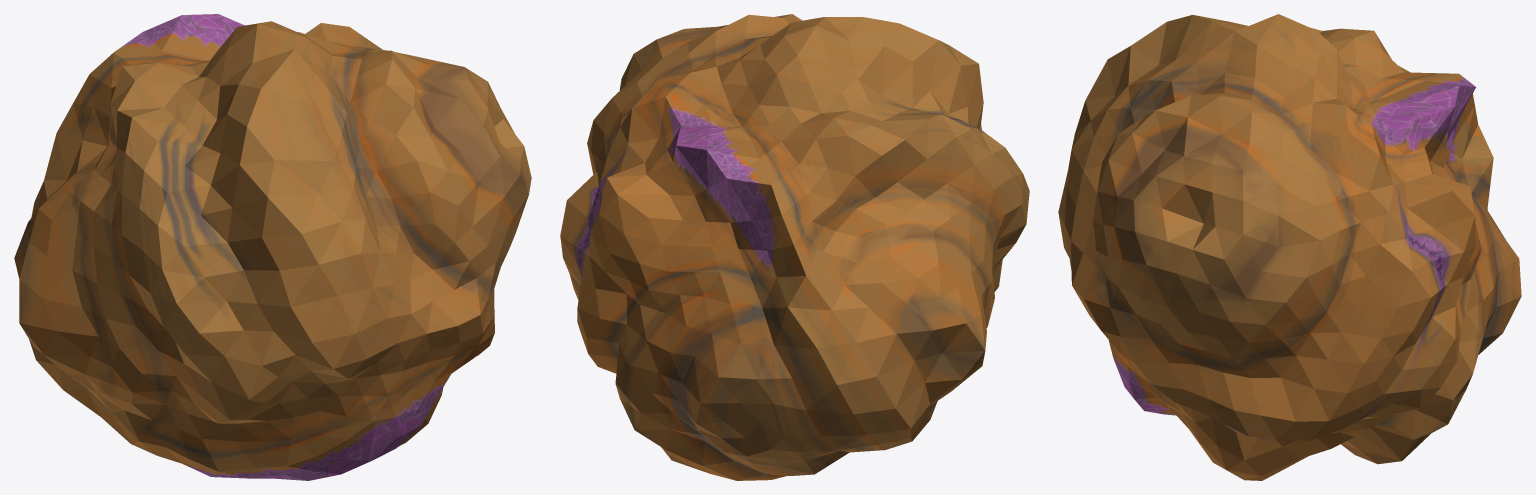
The model's file is asteroid04.obj.
3 views of the same model, side by side, from view 1: azimuth 30°, elevation 25°; view 2: azimuth 150°, elevation 25°; view 3: azimuth 270°, elevation 25° (orthographic). The views are drawn at different scales.
Parts seen in each view (by area): view 1: Icosphere; view 2: Icosphere; view 3: Icosphere.
Part boxes in pixels (left/top/right/bottom): Icosphere: left=14, top=14, right=531, bottom=480; Icosphere: left=560, top=14, right=1029, bottom=480; Icosphere: left=1058, top=14, right=1521, bottom=480.
Bounding box in the file's own units: 2.57 × 2.53 × 2.49.
